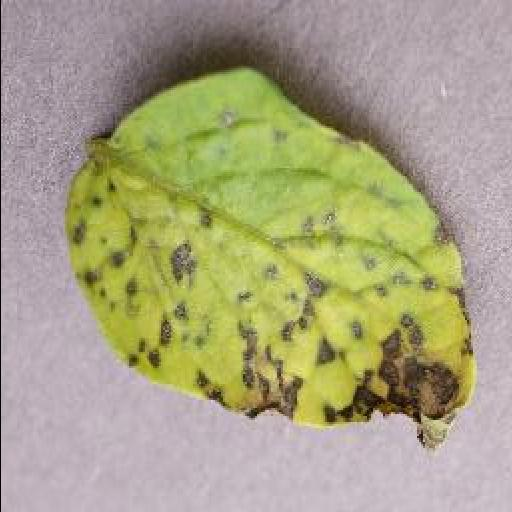disease_tomato: (62, 68, 474, 452)
